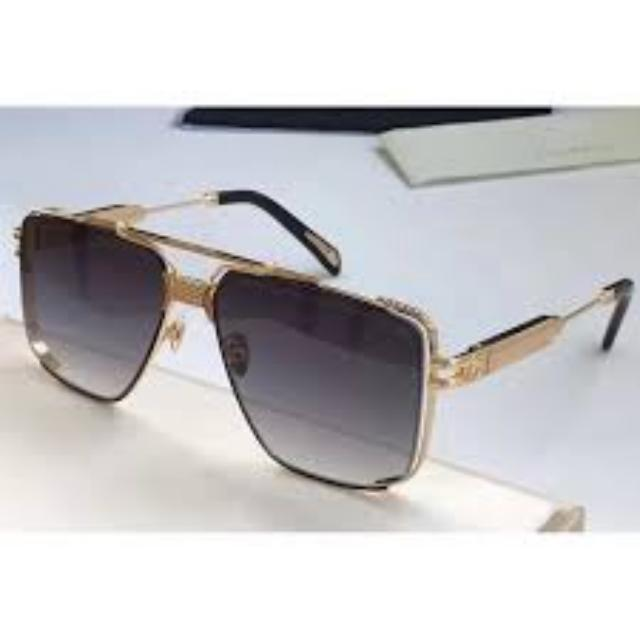sunglasses: (11, 188, 632, 492)
